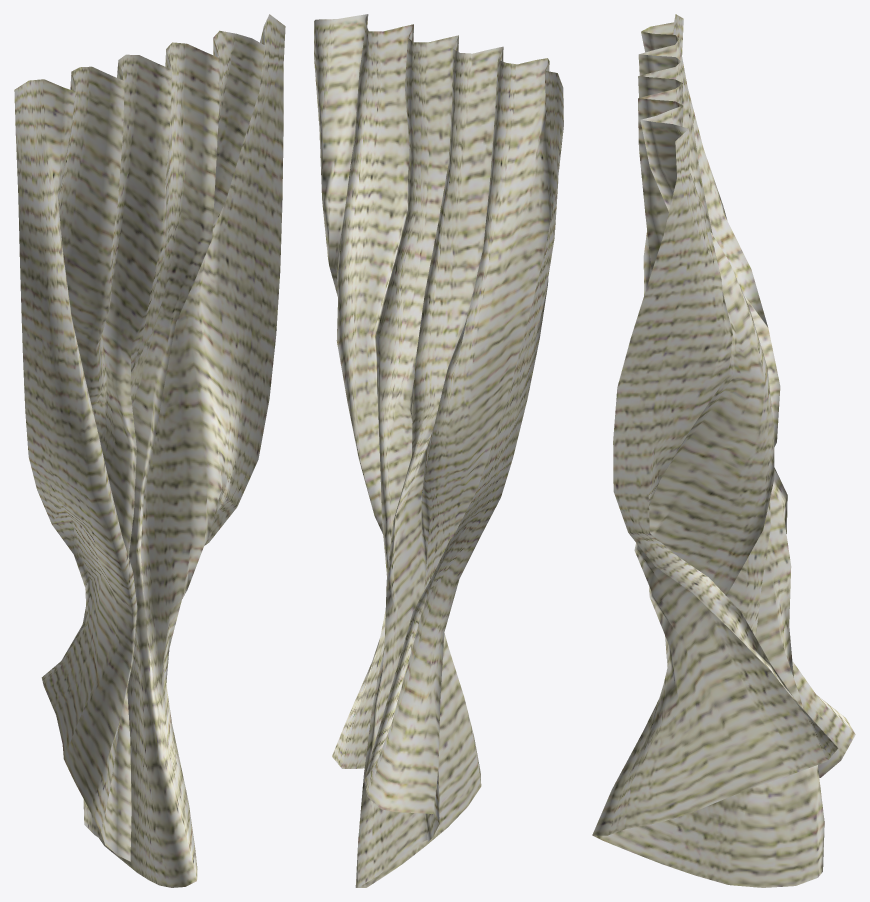
Rendered from cortina.fbx.
3 views of the same model, side by side, from view 1: azimuth 30°, elevation 25°; view 2: azimuth 150°, elevation 25°; view 3: azimuth 270°, elevation 25° (orthographic). The views are drawn at different scales.
Visible parts, largest first — view 1: Plane.012; view 2: Plane.012; view 3: Plane.012.
Part boxes in pixels (bbox=[...]): Plane.012: bbox=[14, 14, 285, 887]; Plane.012: bbox=[314, 14, 563, 887]; Plane.012: bbox=[592, 14, 855, 887].
Bounding box in the file's own units: 323 × 983 × 290.
